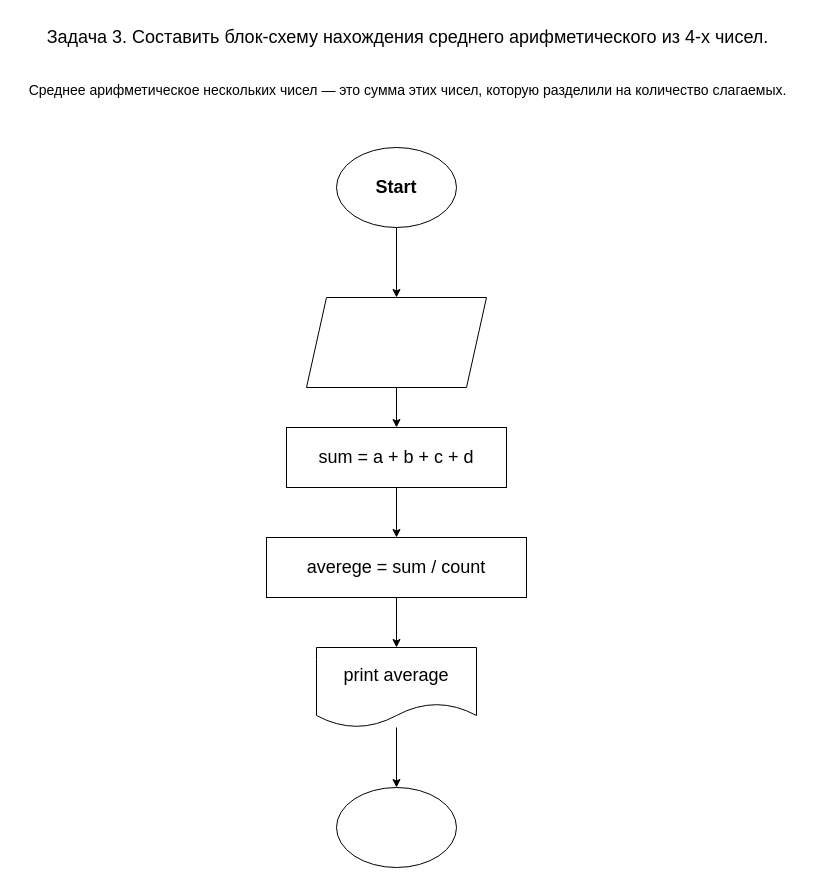
Some shapes in this 814 by 885 pixel diagram are drawn without their labels. Each missing label, with the box of its shape:
Finish: (336, 786, 456, 868)
input a, b, c, d count = 4: (306, 296, 486, 388)
